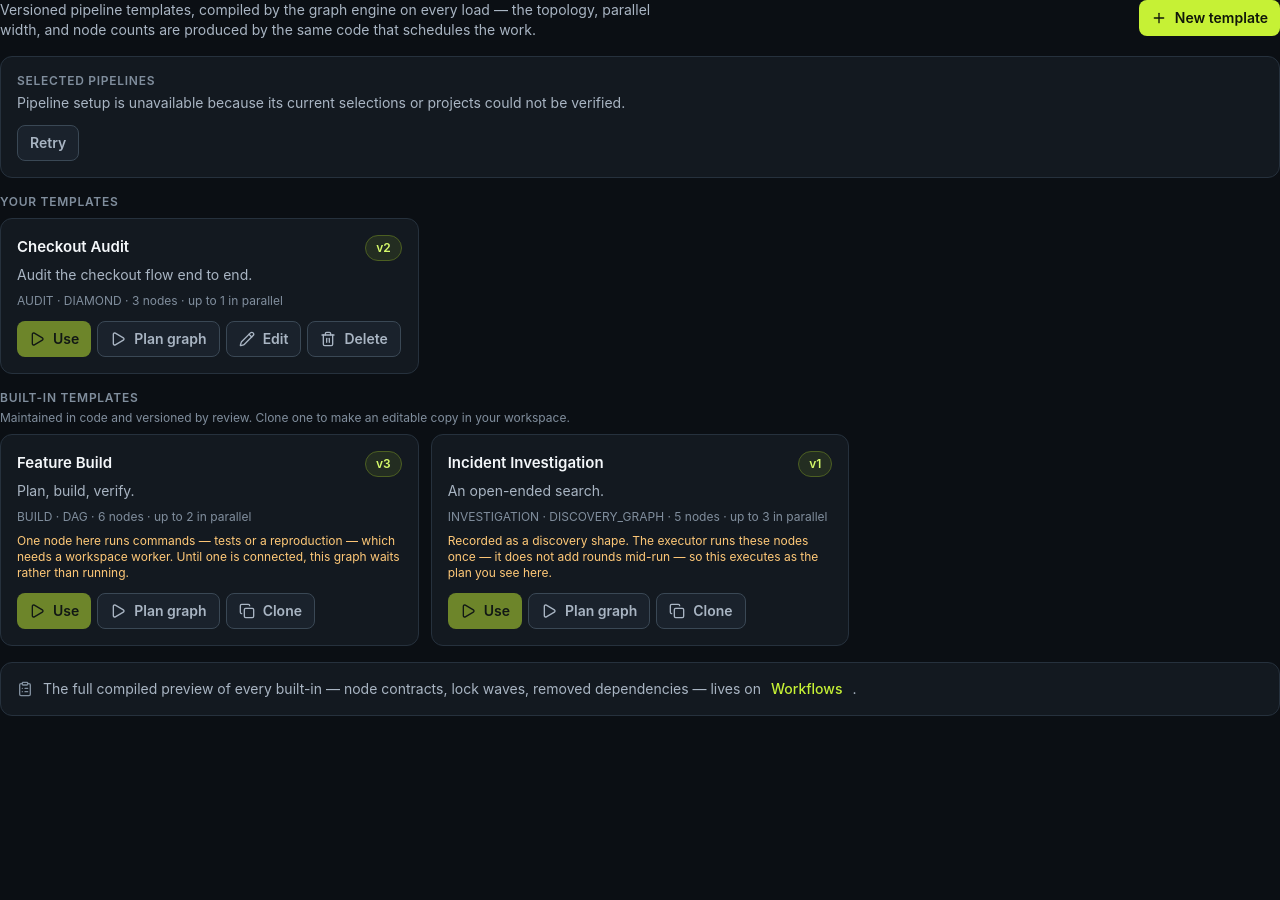
Test: PipelineTemplatesManager › plans a real graph from a template through the launch endpoint
What coordinates should you click on to do the following:
click the button with aria-label "Plan a graph from Checkout Audit"
I would click on:
 (158, 339)
Its box is [97, 321, 220, 357].
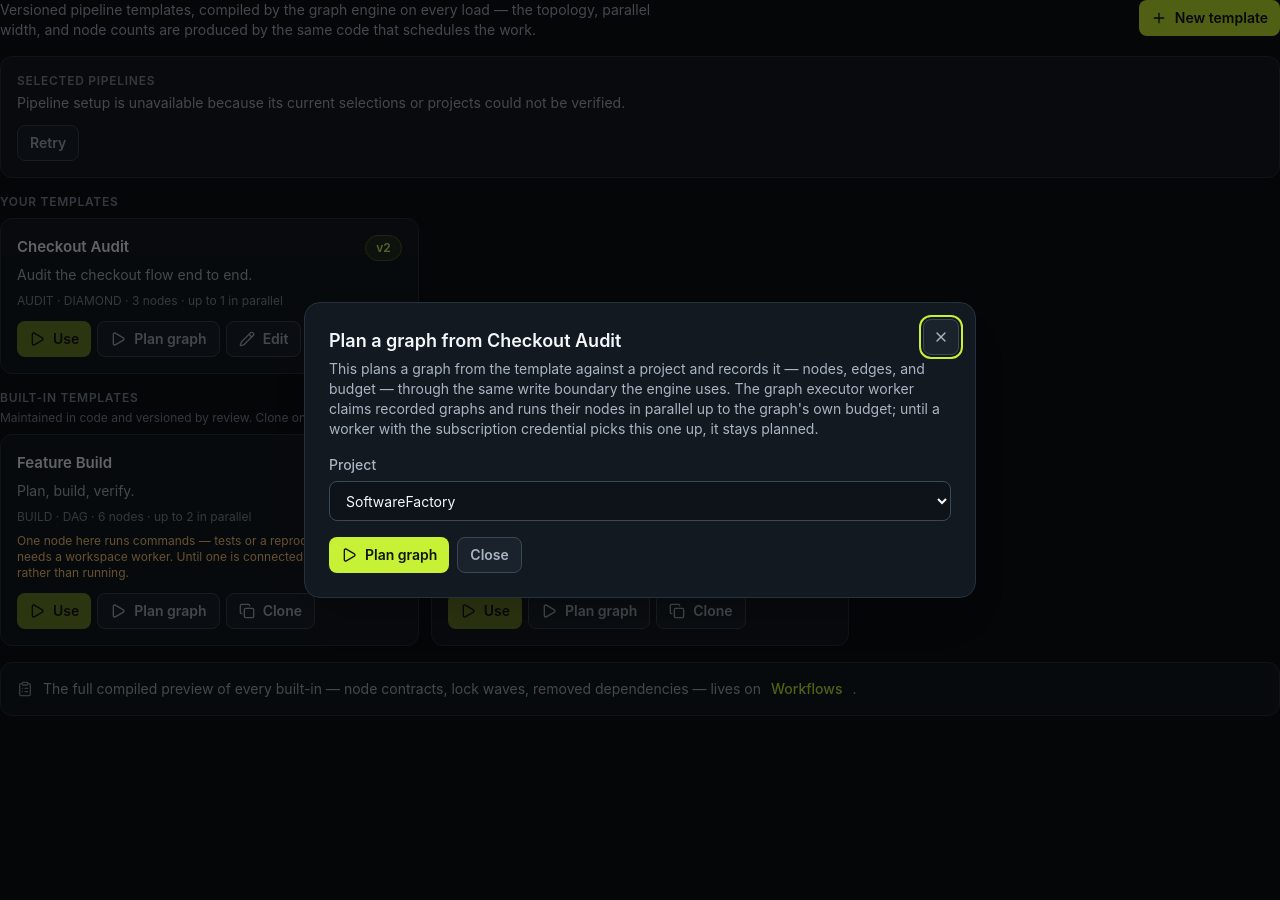
Expected: the dropdown labelled "Project" shows "SoftwareFactory", [329, 481, 951, 521]
What coordinates should you click on to do the following:
click the button "Plan graph"
I would click on:
 (389, 555)
Its box is [329, 537, 449, 573].
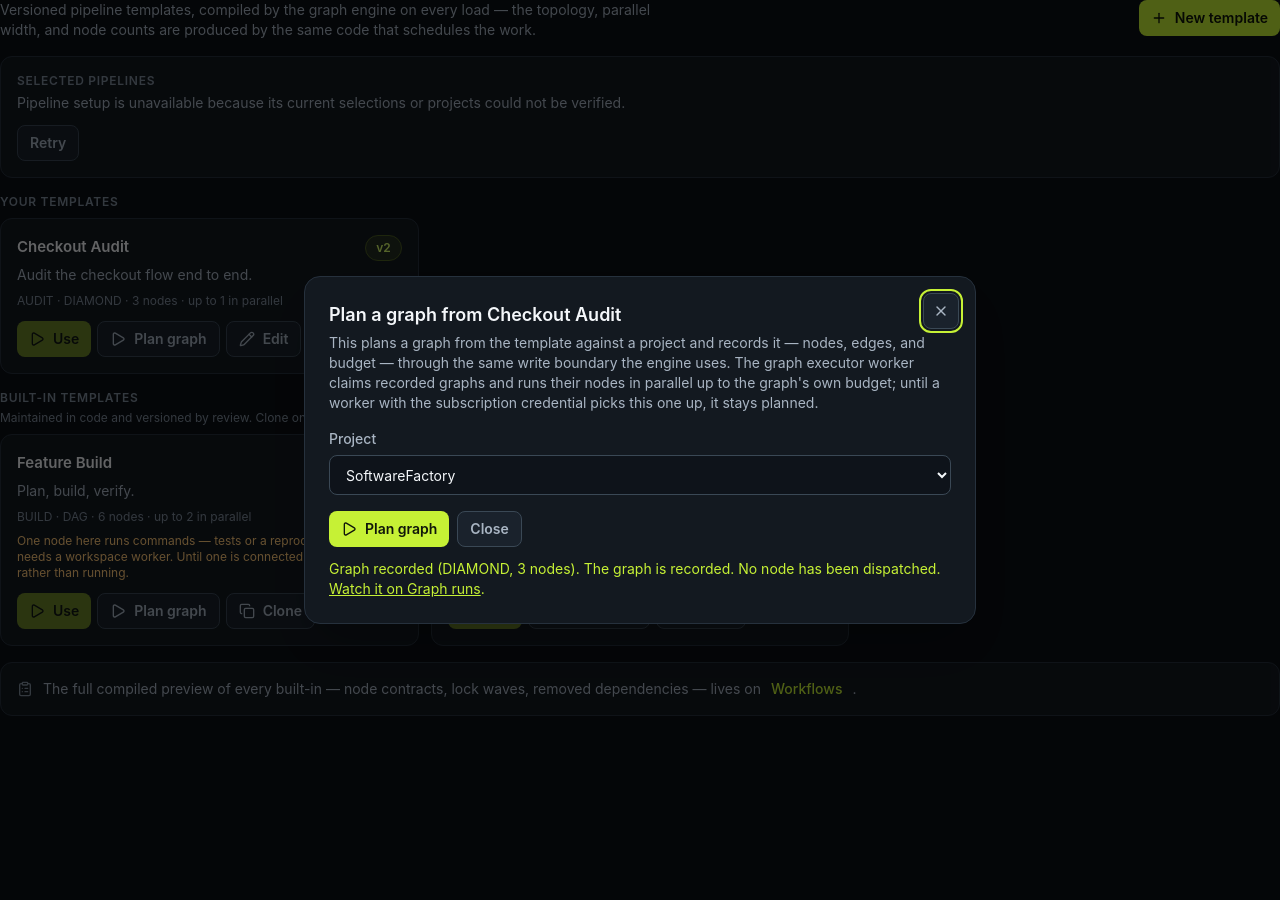
Expected: the text "No node has been dispatched" is shown, [329, 560, 940, 577]
